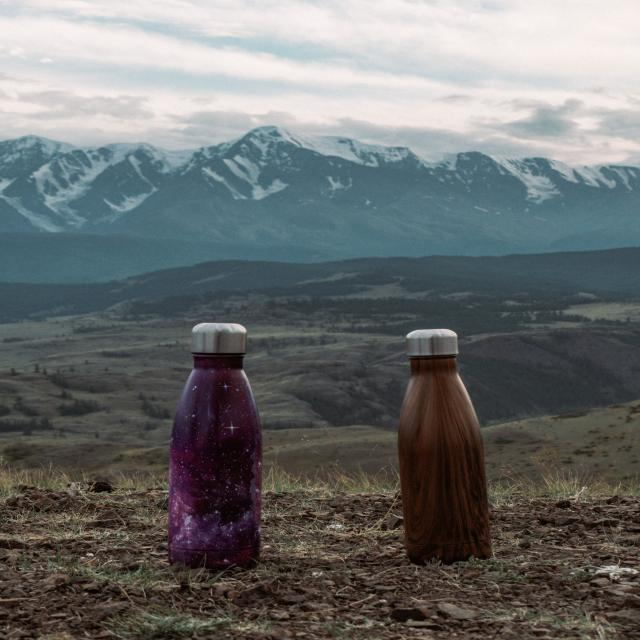Bottle: (169, 324, 262, 568), (399, 330, 491, 564)
